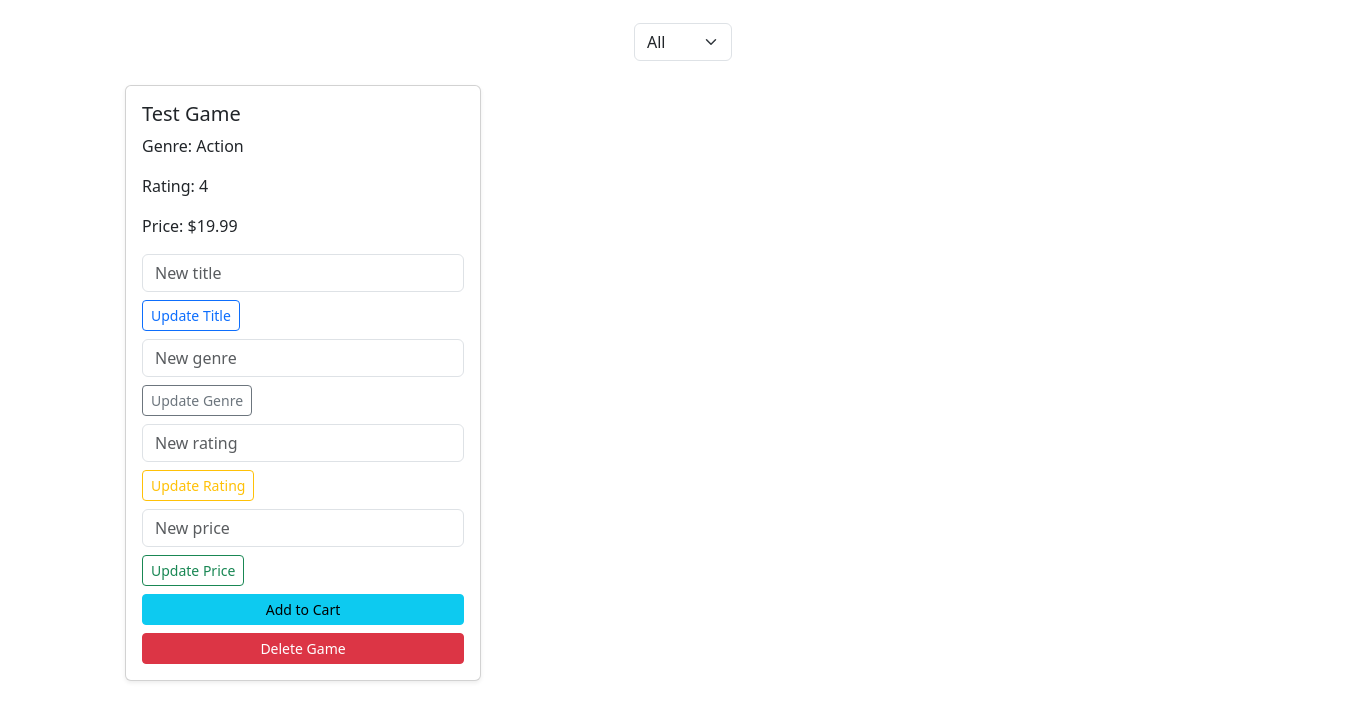
Test: DisplayData Component › adds item to cart and updates total
Step 1. Click the button "Add to Cart" → (303, 610), box [142, 594, 464, 625]
(page scrolled)
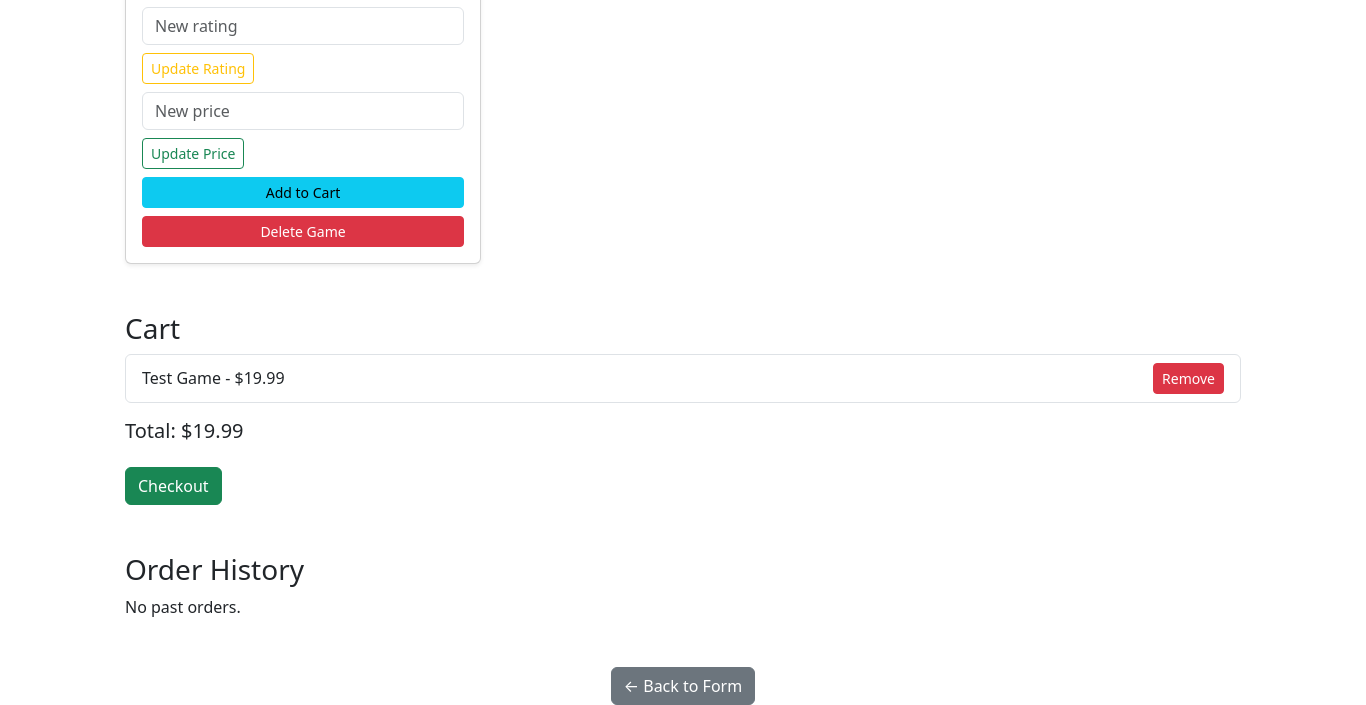
expect the heading "Total: $19.99" is shown: met, box [125, 417, 244, 444]
